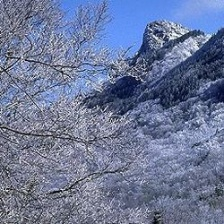neutral: (2, 2, 220, 220)
